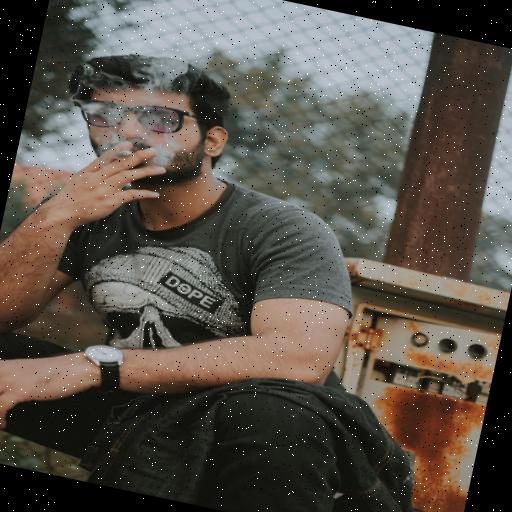terdeteksi merokok: (57, 68, 210, 206)
